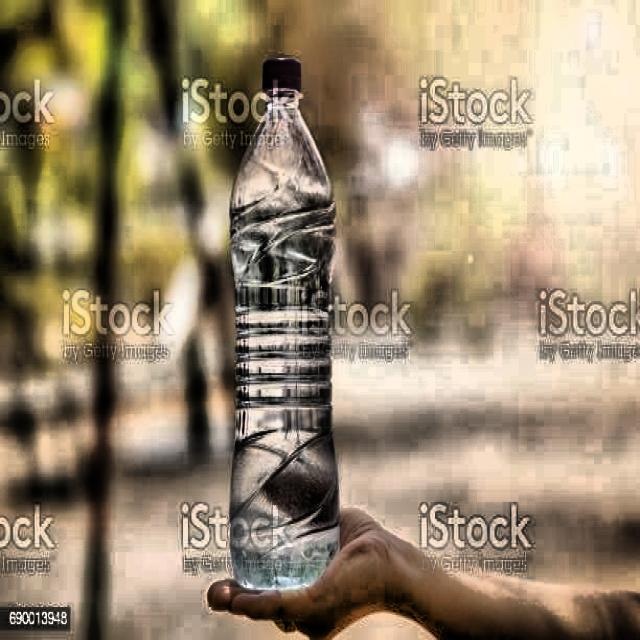Bottles: (223, 48, 347, 598)
